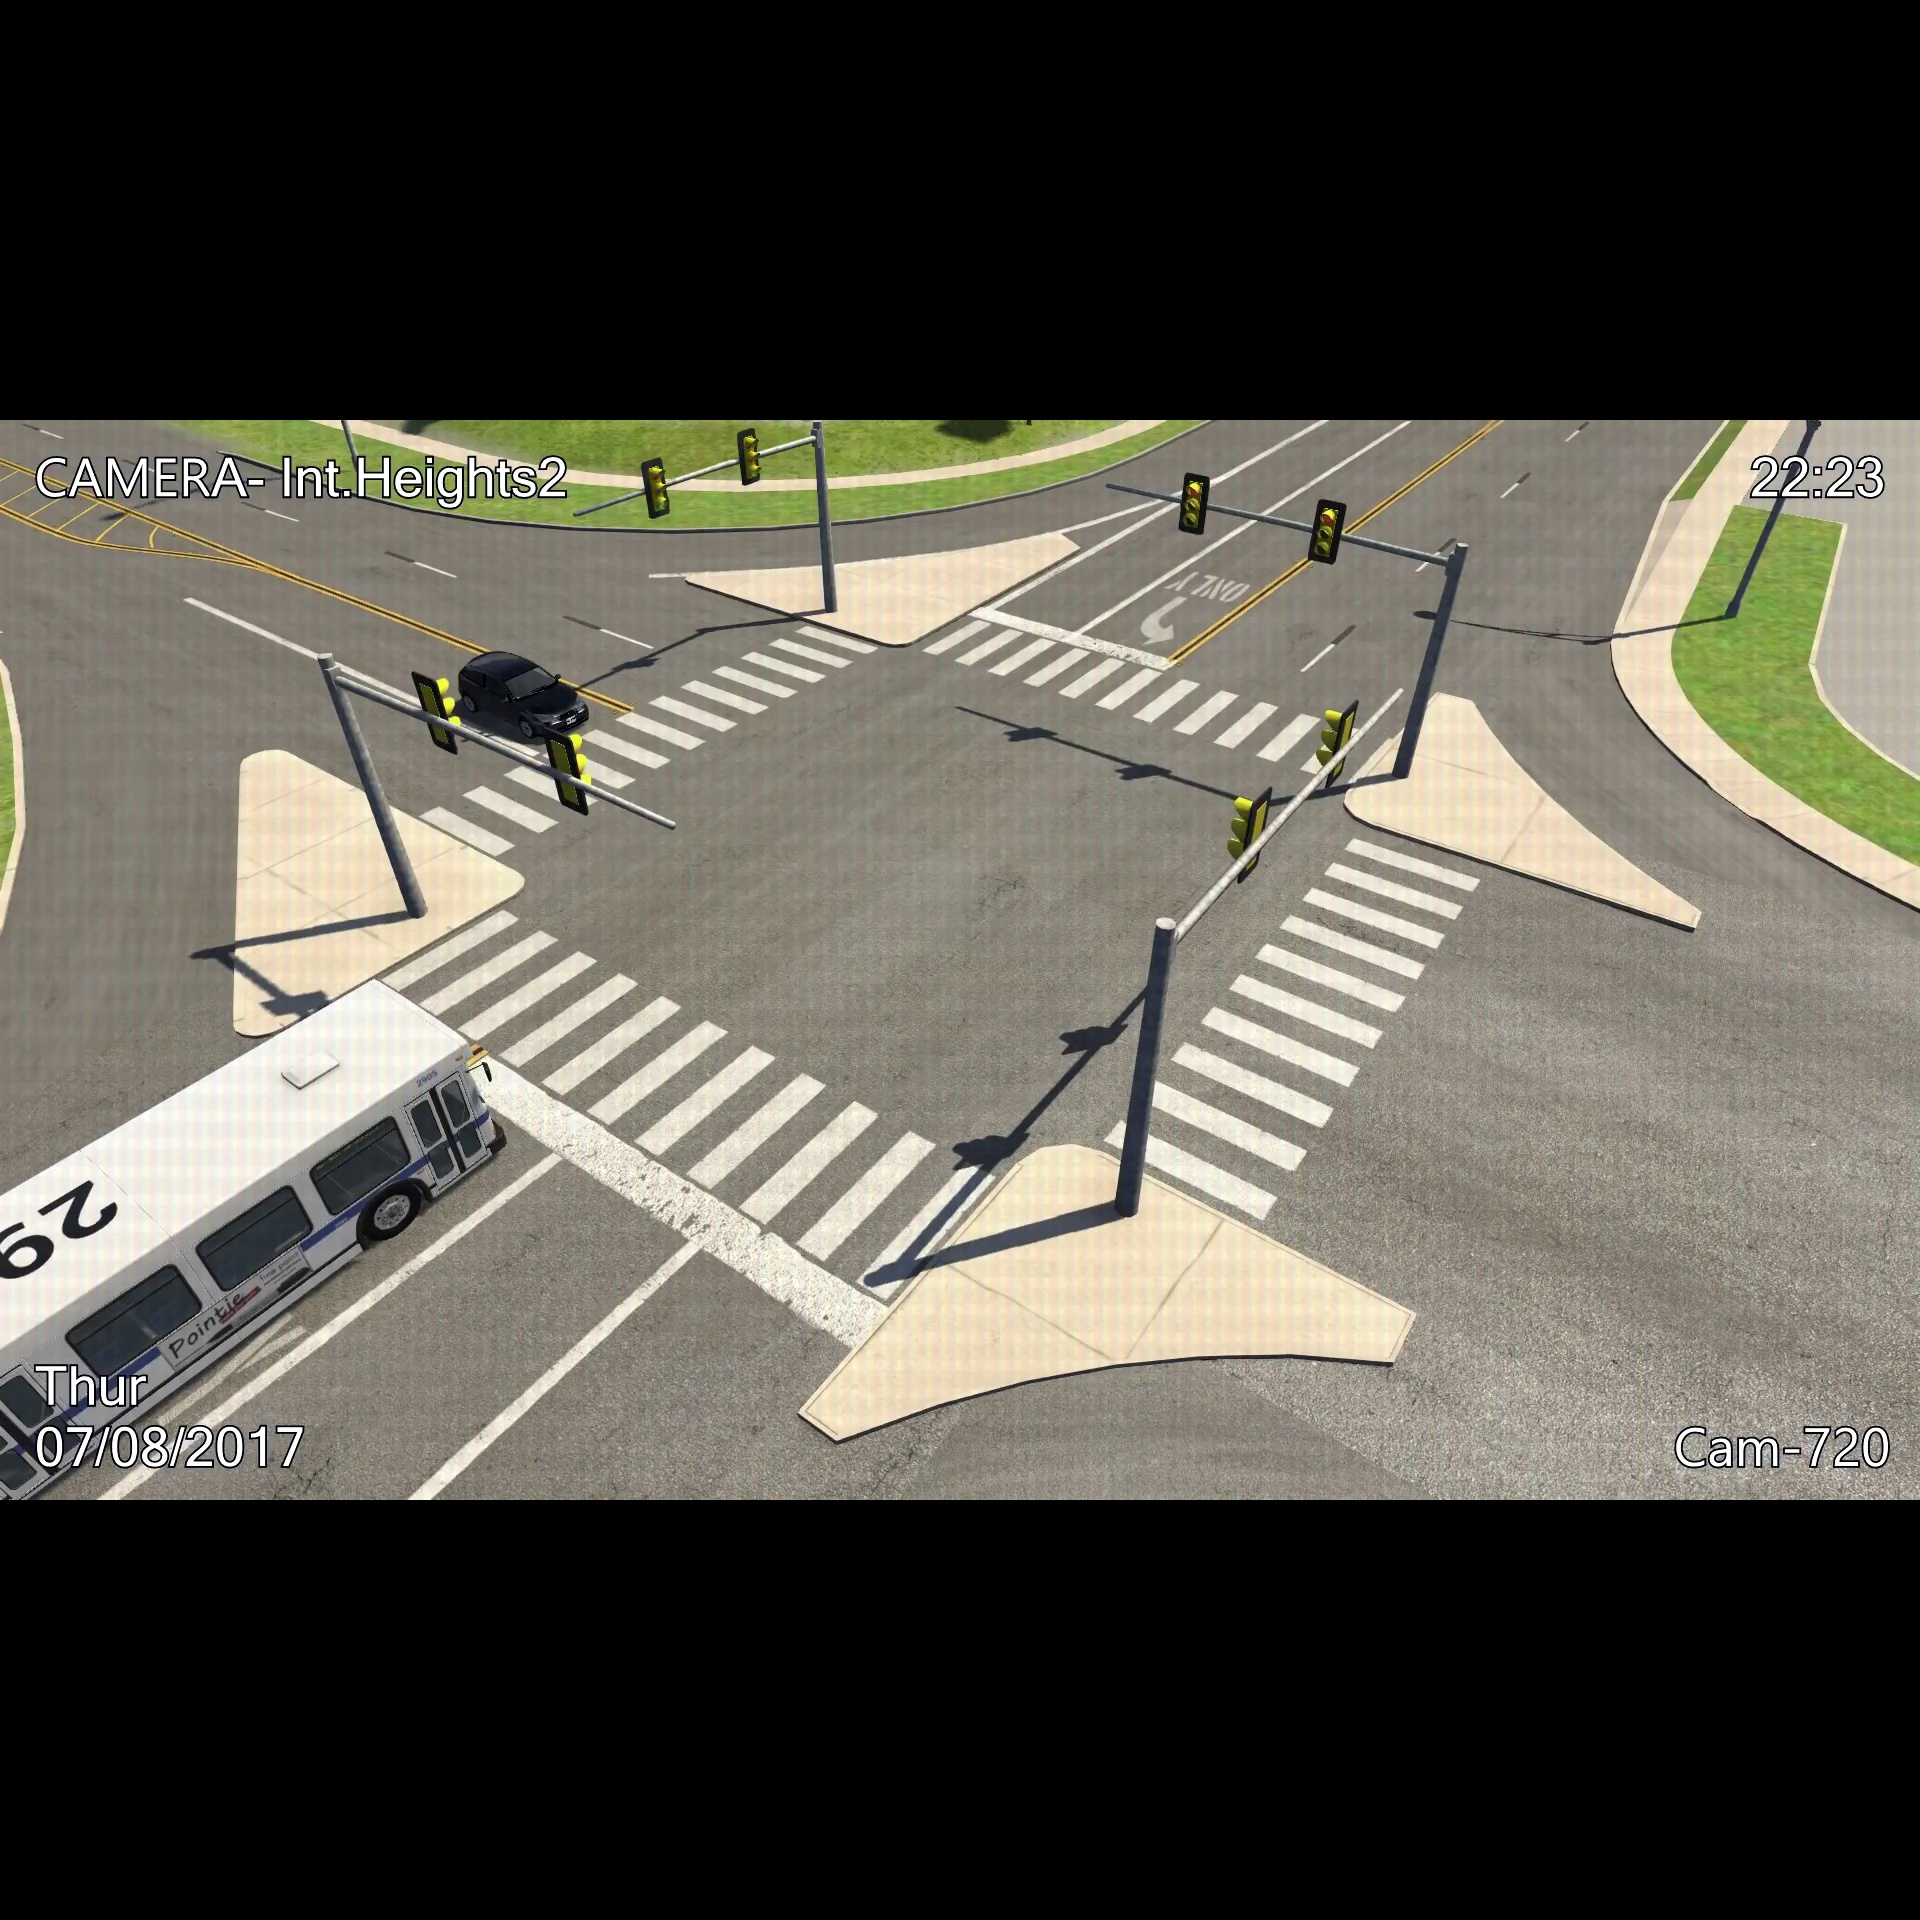vehicle: (2, 972, 517, 1498), (452, 642, 596, 744)
